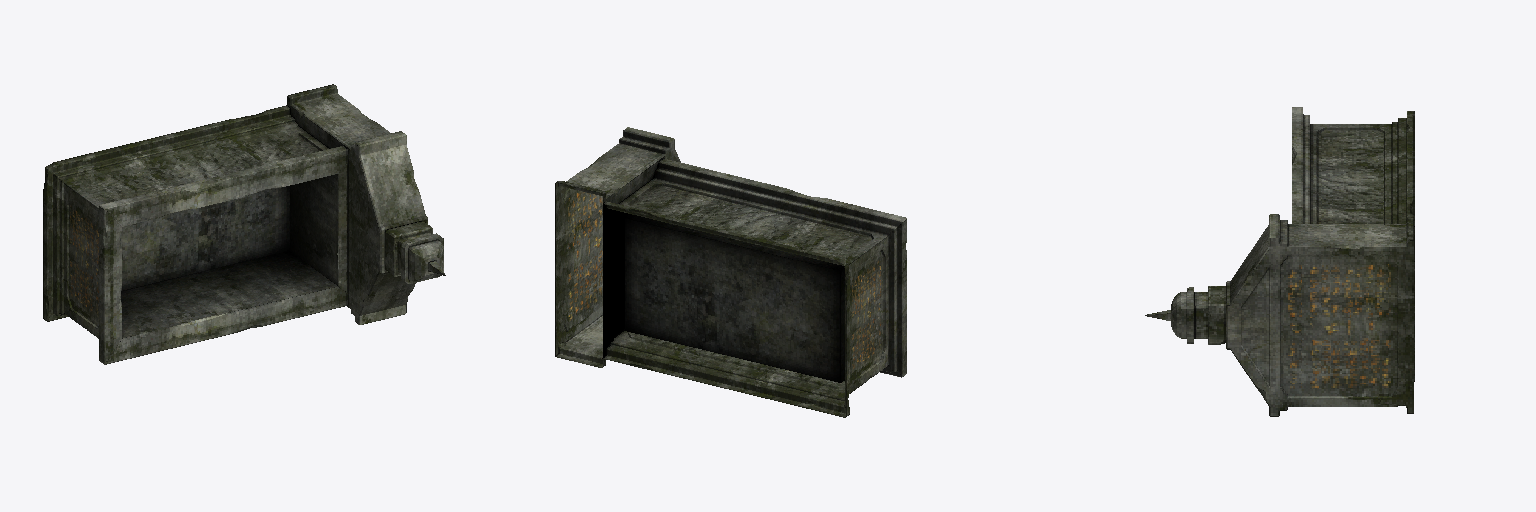
3 renders of one model, left to right at view 1: azimuth 30°, elevation 25°; view 2: azimuth 150°, elevation 25°; view 3: azimuth 270°, elevation 25°, orthographic.
Parts seen in each view (by area): view 1: tdr_d_tomb.001; view 2: tdr_d_tomb.001; view 3: tdr_d_tomb.001.
Part boxes in pixels (left/top/right/bottom): tdr_d_tomb.001: left=43, top=84, right=445, bottom=364; tdr_d_tomb.001: left=555, top=127, right=906, bottom=417; tdr_d_tomb.001: left=1145, top=107, right=1414, bottom=416.
Size of the model in its own units: 1481 by 876 by 1186.
Materials: 1 (1 with a texture image).